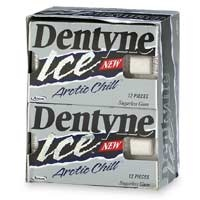grozi_22: (24, 5, 180, 192)
